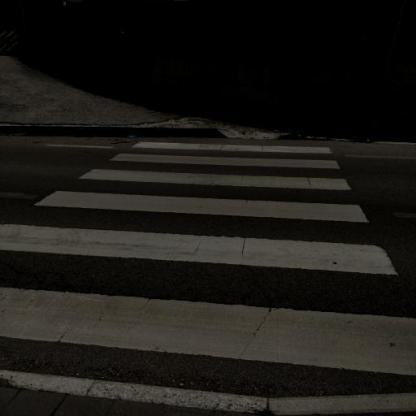crosswalk: (0, 220, 416, 380), (74, 151, 357, 193)
